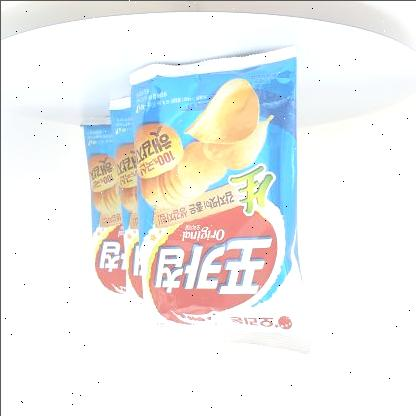Others: (70, 37, 318, 367)
